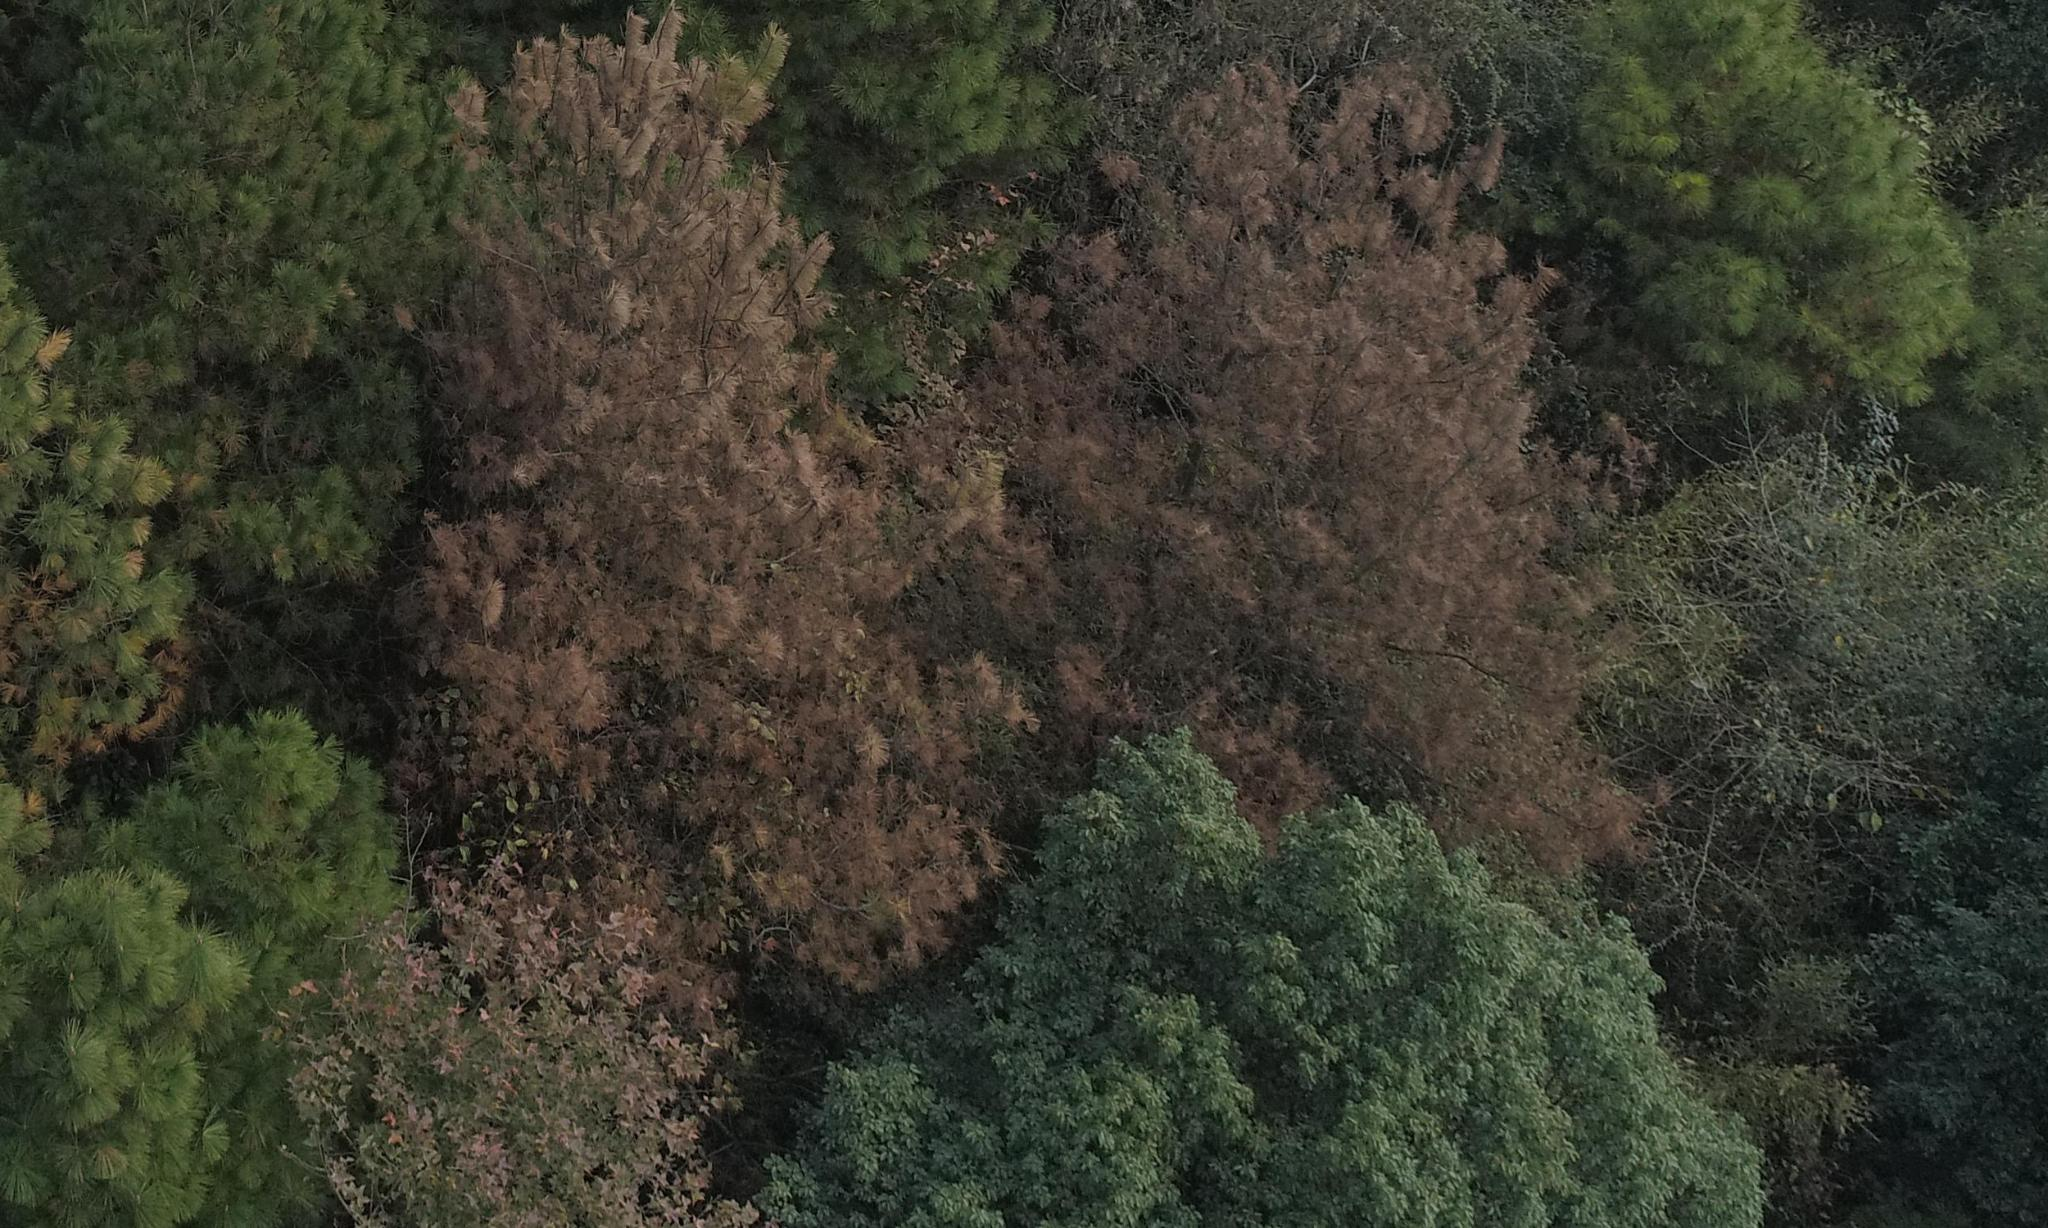heavy: (452, 13, 979, 974), (1067, 57, 1637, 857)
